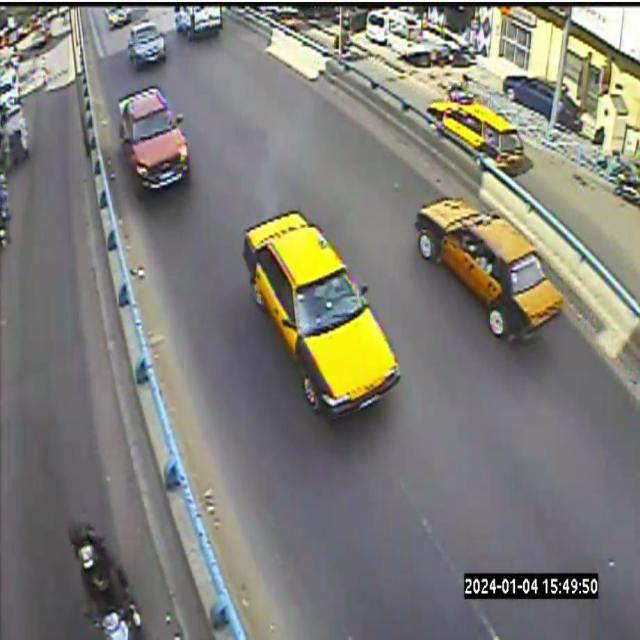car: (243, 211, 400, 416), (415, 197, 562, 337), (118, 86, 189, 189), (426, 100, 526, 173), (129, 20, 166, 67), (175, 6, 223, 40), (106, 8, 131, 30)
